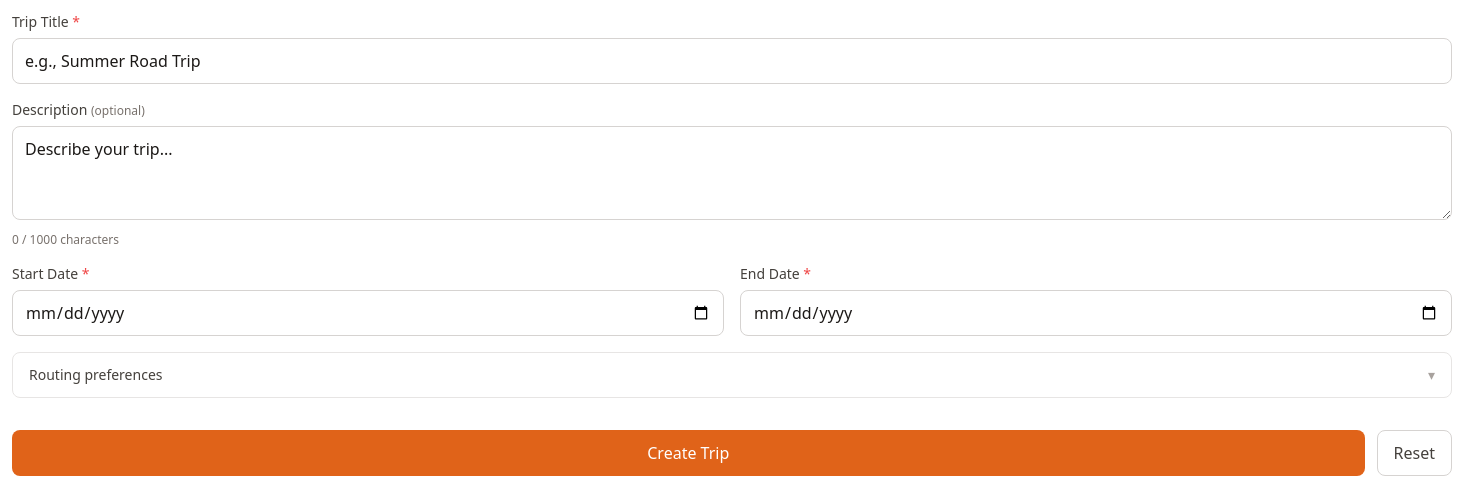
Test: TripForm Component › Character Limits › should update character count as user types in description
The width and height of the screenshot is (1464, 493).
Type "Hello world" into the text box labelled "Description (optional)" at (732, 173), box [12,126,1452,220]
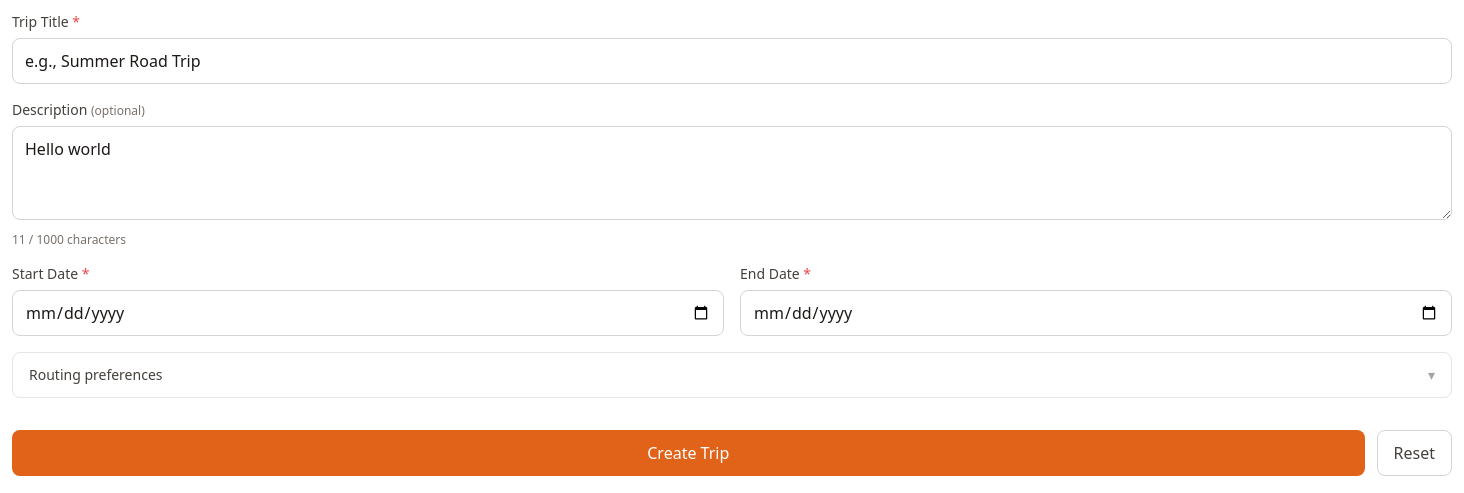
Expected: the text "11 / 1000 characters" is shown, [12,231,126,248]
